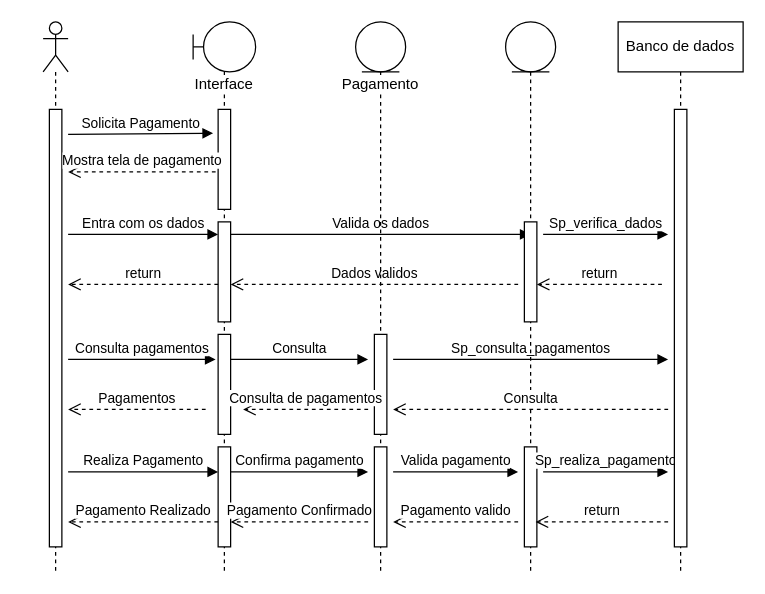
Some shapes in this 765 by 594 pixel diagram are drawn without their labels. The shapes that lost their labels are listed below. From the top down, each one's box as (x1, y1, x2, y2) in pixels, then its label:
(42, 21, 68, 572): Atendente
(504, 21, 556, 572): Validação
